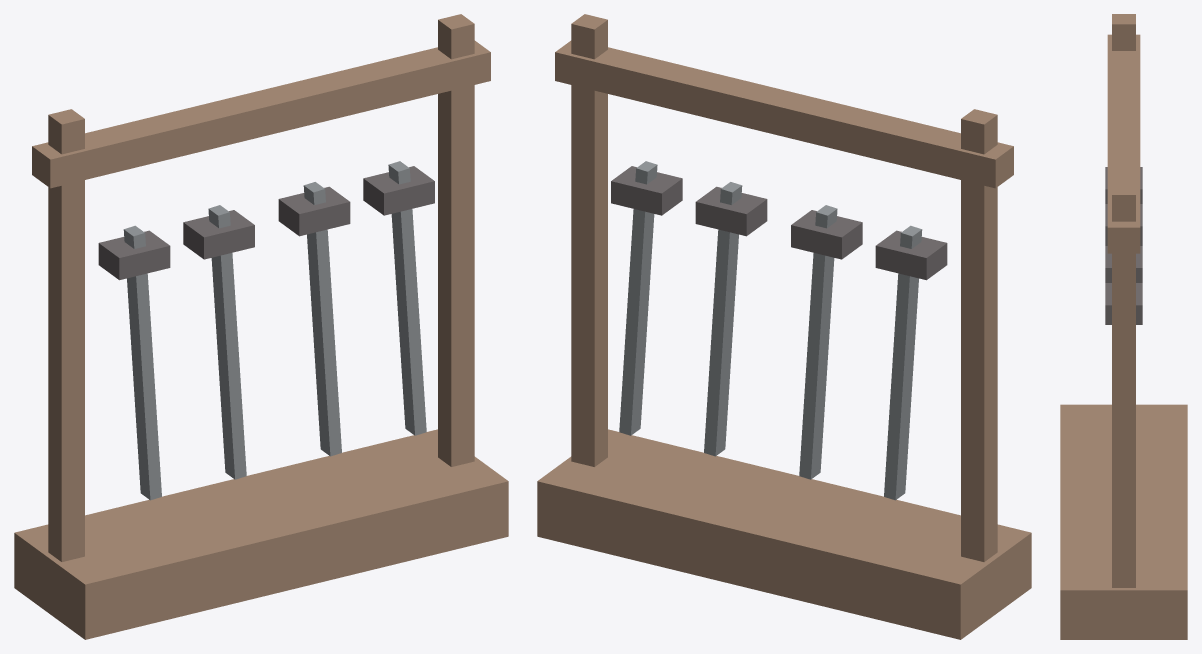
File: smith_tool_rack.glb
3 views of the same model, side by side, from view 1: azimuth 30°, elevation 25°; view 2: azimuth 150°, elevation 25°; view 3: azimuth 270°, elevation 25° (orthographic). The views are drawn at different scales.
Visible parts, largest first — view 1: box_0, box_3, box_1, box_2, beam_10, beam_6, beam_8, beam_4, box_5, box_9, box_7, box_11; view 2: box_0, box_3, box_1, box_2, beam_10, beam_6, beam_8, beam_4, box_5, box_9, box_7, box_11; view 3: box_0, box_2, box_3, box_1, box_11, box_9, box_7, box_5.
Boxes of the visible parts, left/top/right/bottom form: box_0: left=14, top=429, right=508, bottom=639; box_3: left=32, top=40, right=490, bottom=188; box_1: left=48, top=109, right=84, bottom=561; box_2: left=438, top=14, right=474, bottom=466; beam_10: left=388, top=161, right=426, bottom=435; beam_6: left=208, top=205, right=246, bottom=479; beam_8: left=303, top=182, right=341, bottom=456; beam_4: left=123, top=225, right=161, bottom=500; box_5: left=98, top=230, right=170, bottom=280; box_9: left=278, top=186, right=350, bottom=236; box_7: left=183, top=210, right=254, bottom=259; box_11: left=363, top=166, right=434, bottom=215; box_0: left=537, top=429, right=1031, bottom=639; box_3: left=555, top=40, right=1013, bottom=188; box_1: left=961, top=109, right=997, bottom=561; box_2: left=571, top=14, right=607, bottom=466; beam_10: left=619, top=161, right=657, bottom=435; beam_6: left=799, top=205, right=837, bottom=479; beam_8: left=704, top=182, right=742, bottom=456; beam_4: left=884, top=225, right=922, bottom=500; box_5: left=875, top=230, right=947, bottom=280; box_9: left=695, top=186, right=767, bottom=236; box_7: left=791, top=210, right=862, bottom=259; box_11: left=611, top=166, right=682, bottom=215; box_0: left=1060, top=404, right=1187, bottom=639; box_2: left=1112, top=184, right=1135, bottom=587; box_3: left=1107, top=34, right=1140, bottom=253; box_1: left=1112, top=14, right=1135, bottom=50; box_11: left=1105, top=283, right=1142, bottom=324; box_9: left=1105, top=246, right=1142, bottom=282; box_7: left=1105, top=204, right=1142, bottom=245; box_5: left=1105, top=167, right=1142, bottom=203.
Size of the model in its own units: 2.08 by 2.22 by 0.58.
